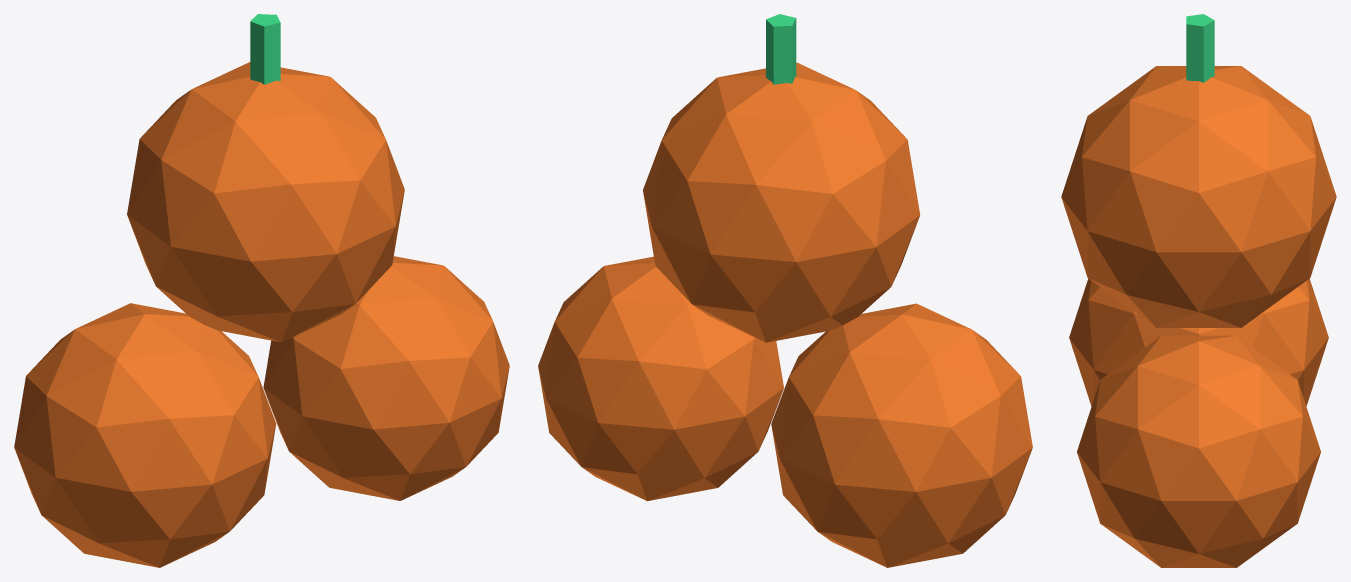
Rendered from orange_stack.glb.
3 views of the same model, side by side, from view 1: azimuth 30°, elevation 25°; view 2: azimuth 150°, elevation 25°; view 3: azimuth 270°, elevation 25° (orthographic). The views are drawn at different scales.
Visible parts, largest first — view 1: orange_stack; view 2: orange_stack; view 3: orange_stack.
Part boxes in pixels (<box>): orange_stack: <box>14,14,509,567</box>; orange_stack: <box>538,14,1032,567</box>; orange_stack: <box>1061,14,1336,567</box>.
Bounding box in the file's own units: 1.96 × 2.09 × 1.06.
